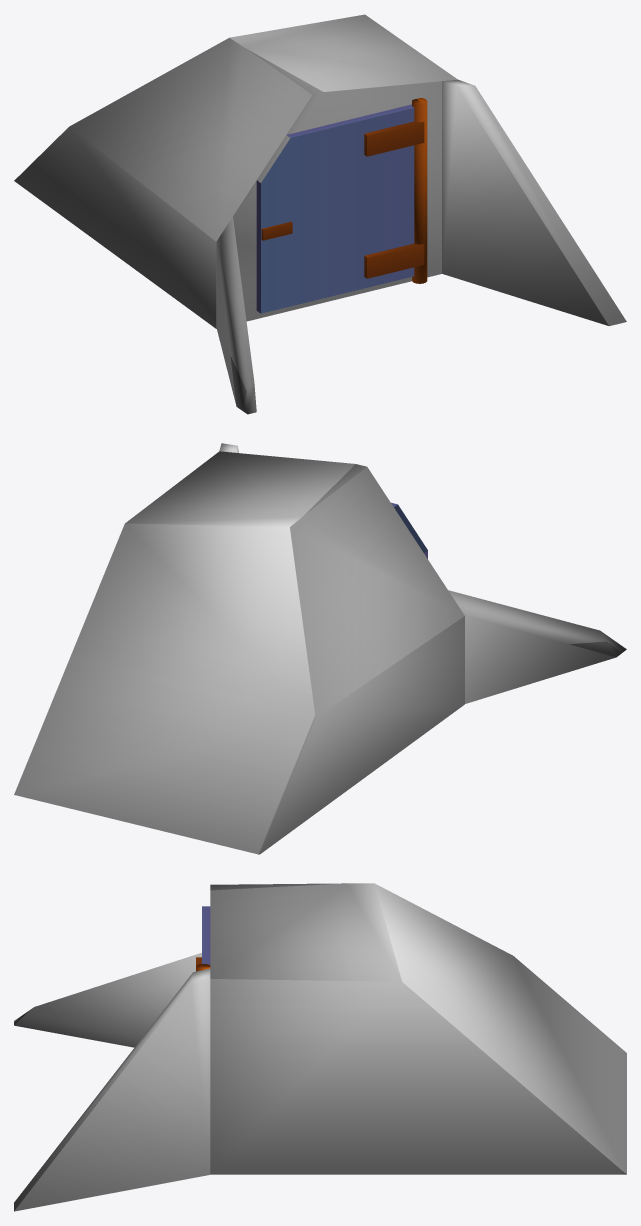
File: SM_Bld_Bunker.fbx
3 renders of one model, top to bottom at view 1: azimuth 30°, elevation 25°; view 2: azimuth 150°, elevation 25°; view 3: azimuth 270°, elevation 25°, orthographic. The views are drawn at different scales.
Visible parts, largest first — view 1: SM_Bld_Bunker; view 2: SM_Bld_Bunker; view 3: SM_Bld_Bunker.
Boxes of the visible parts, x1,y1,x2,y2 form: SM_Bld_Bunker: (14,14,626,414); SM_Bld_Bunker: (14,443,626,854); SM_Bld_Bunker: (14,883,626,1211).
Size of the model in its own units: 472 by 250 by 641.
